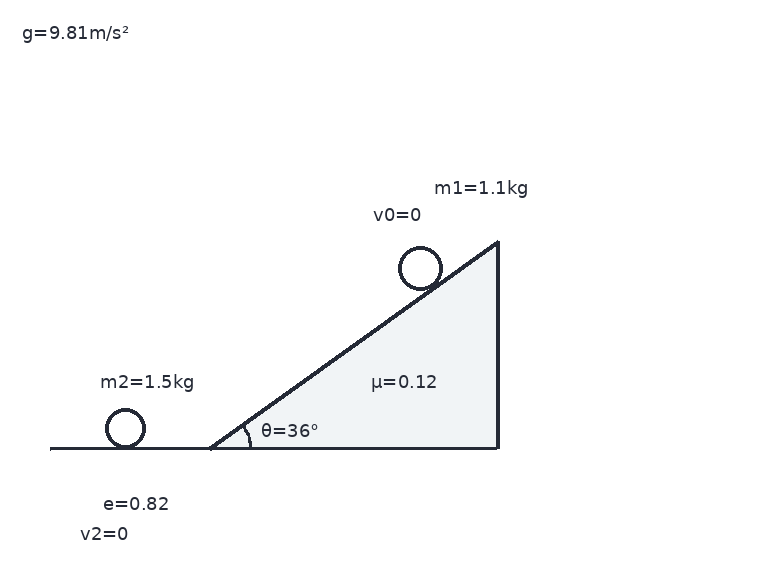ball: (396, 244, 444, 292), (103, 406, 147, 450)
ramp: (208, 237, 499, 450)
